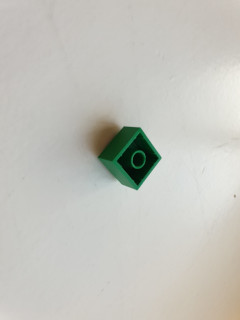2x2 green: (96, 126, 162, 190)
